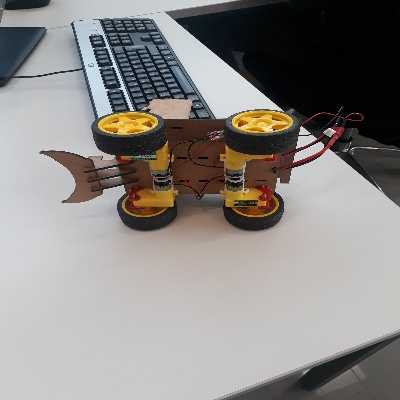Robot: (39, 99, 299, 231)
